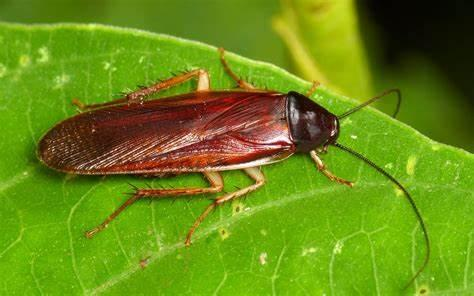cockroach: (31, 64, 350, 204)
